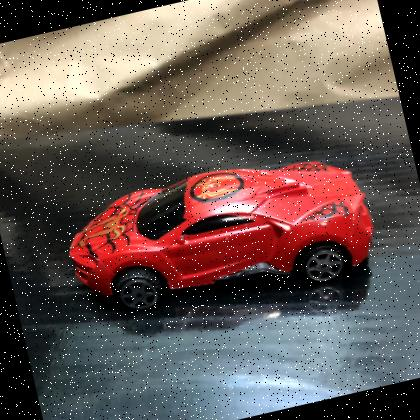Car: (68, 161, 374, 312)
